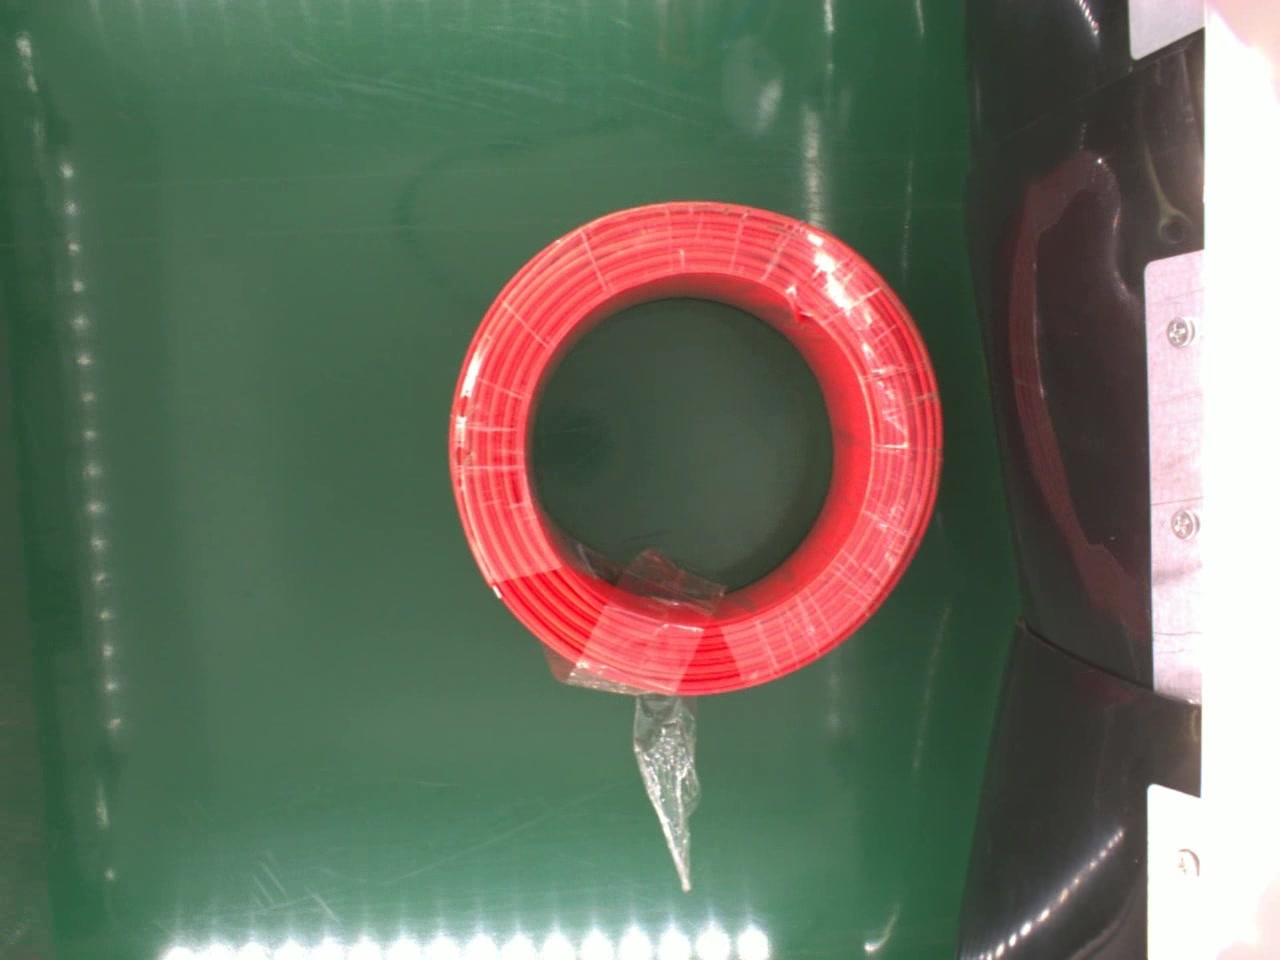red: (444, 200, 943, 700)
